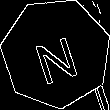N_N: (30, 23, 83, 84)
